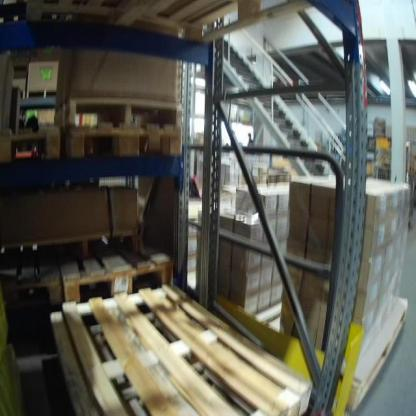pallet: (62, 289, 312, 414), (263, 287, 410, 415), (2, 2, 317, 51), (64, 231, 176, 305), (58, 125, 186, 161), (54, 94, 188, 126), (1, 252, 60, 313), (1, 123, 58, 160)
pallet_truck: (183, 170, 214, 203)
